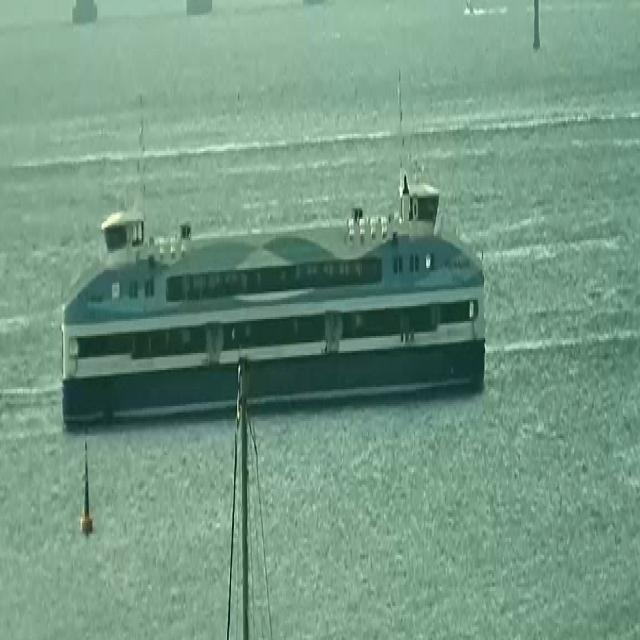Passenger: (61, 119, 485, 430)
